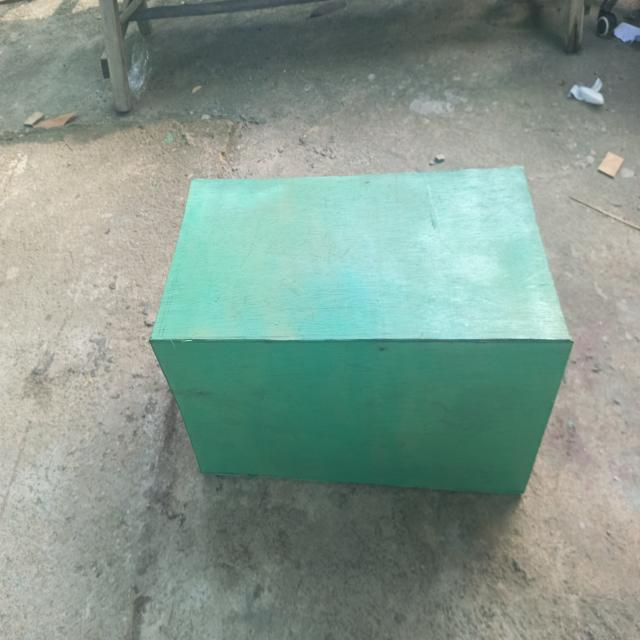green_box: (132, 142, 589, 527)
